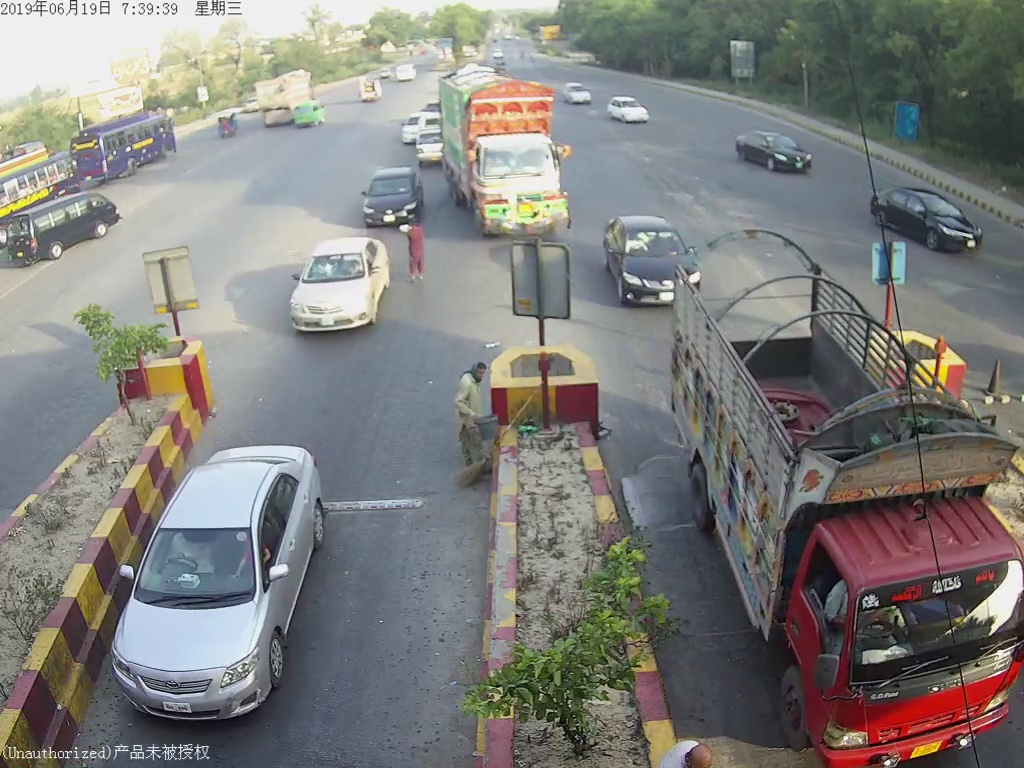Cat-1: (114, 449, 322, 730), (277, 244, 395, 332), (602, 217, 678, 305), (356, 169, 417, 222)
Cat-4: (653, 229, 1024, 768), (446, 83, 573, 240)
